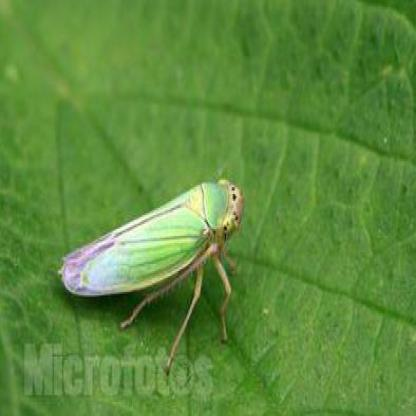Green-Leafhopper: (57, 175, 245, 365)
